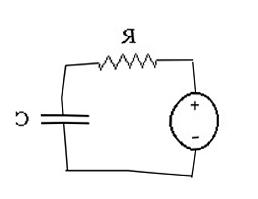Battery: (164, 87, 230, 154)
